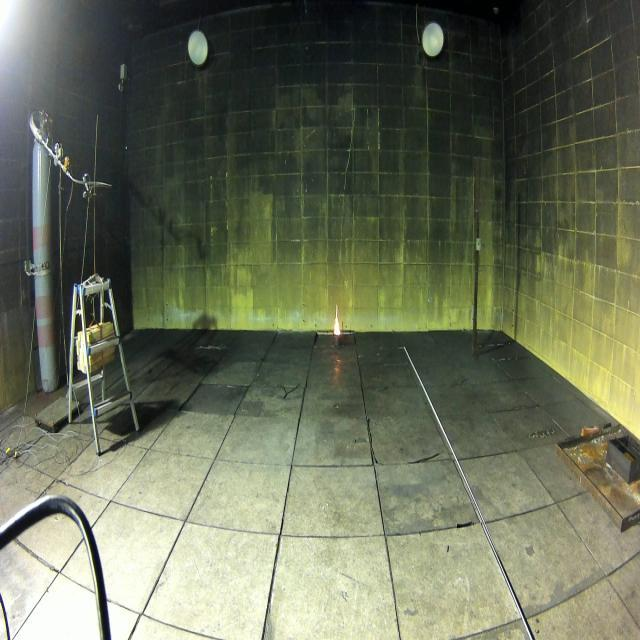Fire: (334, 304, 341, 336)
